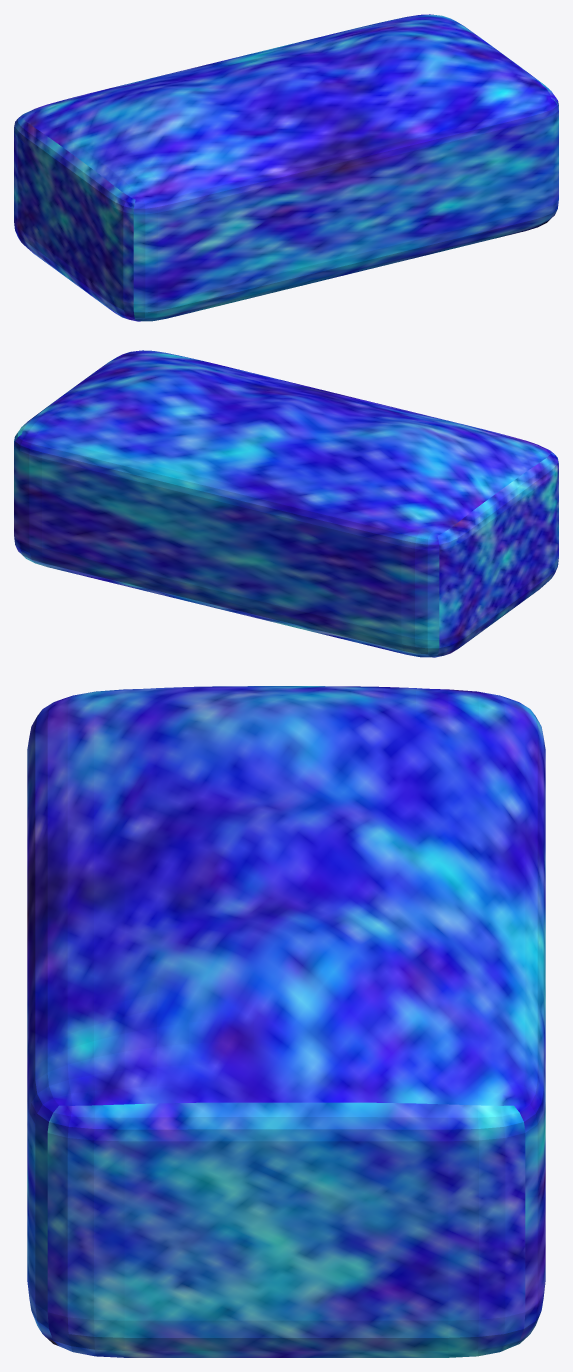
Rendered from Platf1.fbx.
The picture shows the model from 3 angles, top to bottom: view 1: azimuth 30°, elevation 25°; view 2: azimuth 150°, elevation 25°; view 3: azimuth 270°, elevation 25°; orthographic projection. The views are drawn at different scales.
Visible parts, largest first — view 1: Cube; view 2: Cube; view 3: Cube.
Part boxes in pixels (left/top/right/bottom): Cube: left=14, top=14, right=558, bottom=321; Cube: left=14, top=350, right=558, bottom=657; Cube: left=27, top=686, right=545, bottom=1357.
Bounding box in the file's own units: 1201 × 436 × 609.
